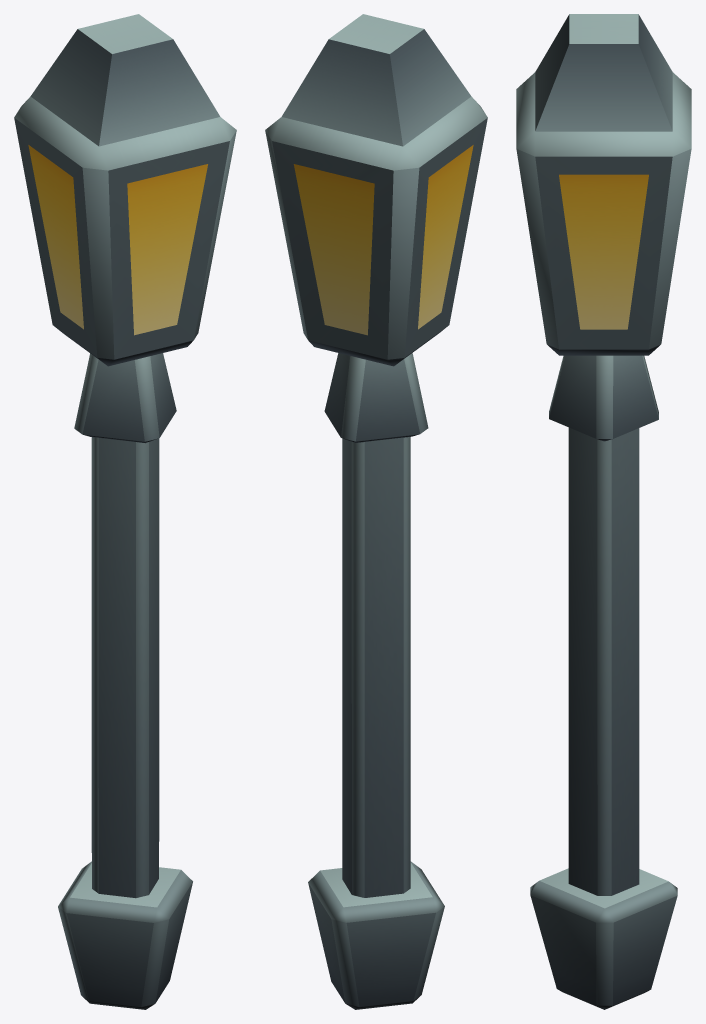
File: street_light_single.fbx
3 views of the same model, side by side, from view 1: azimuth 30°, elevation 25°; view 2: azimuth 150°, elevation 25°; view 3: azimuth 270°, elevation 25° (orthographic).
Visible parts, largest first — view 1: street_light_single; view 2: street_light_single; view 3: street_light_single.
Part boxes in pixels (left/top/right/bottom): street_light_single: left=14, top=14, right=236, bottom=1009; street_light_single: left=265, top=14, right=487, bottom=1009; street_light_single: left=516, top=14, right=691, bottom=1009.
Size of the model in its own units: 51.29 by 305 by 50.31.
